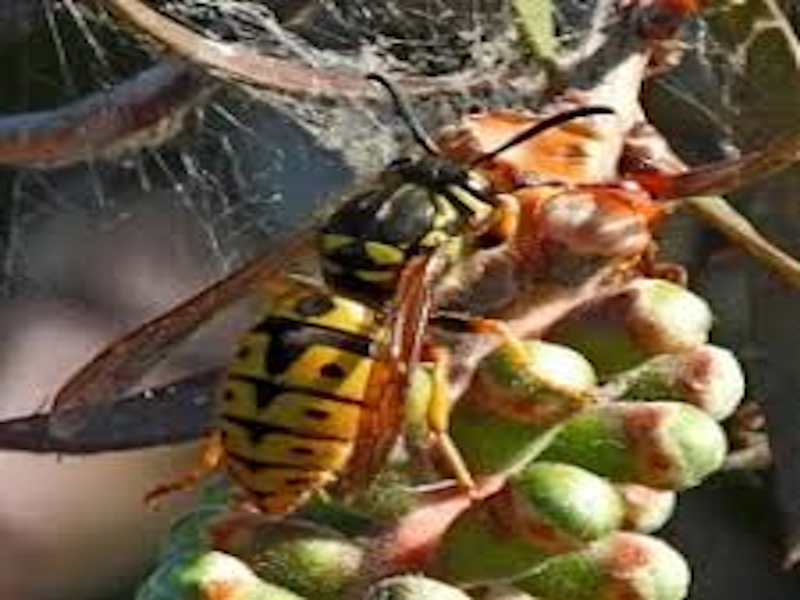chax: (55, 104, 604, 530)
